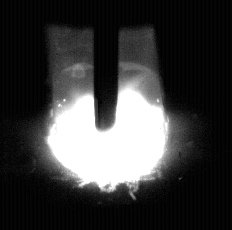arame: (94, 0, 120, 131)
poca: (48, 0, 167, 230)
